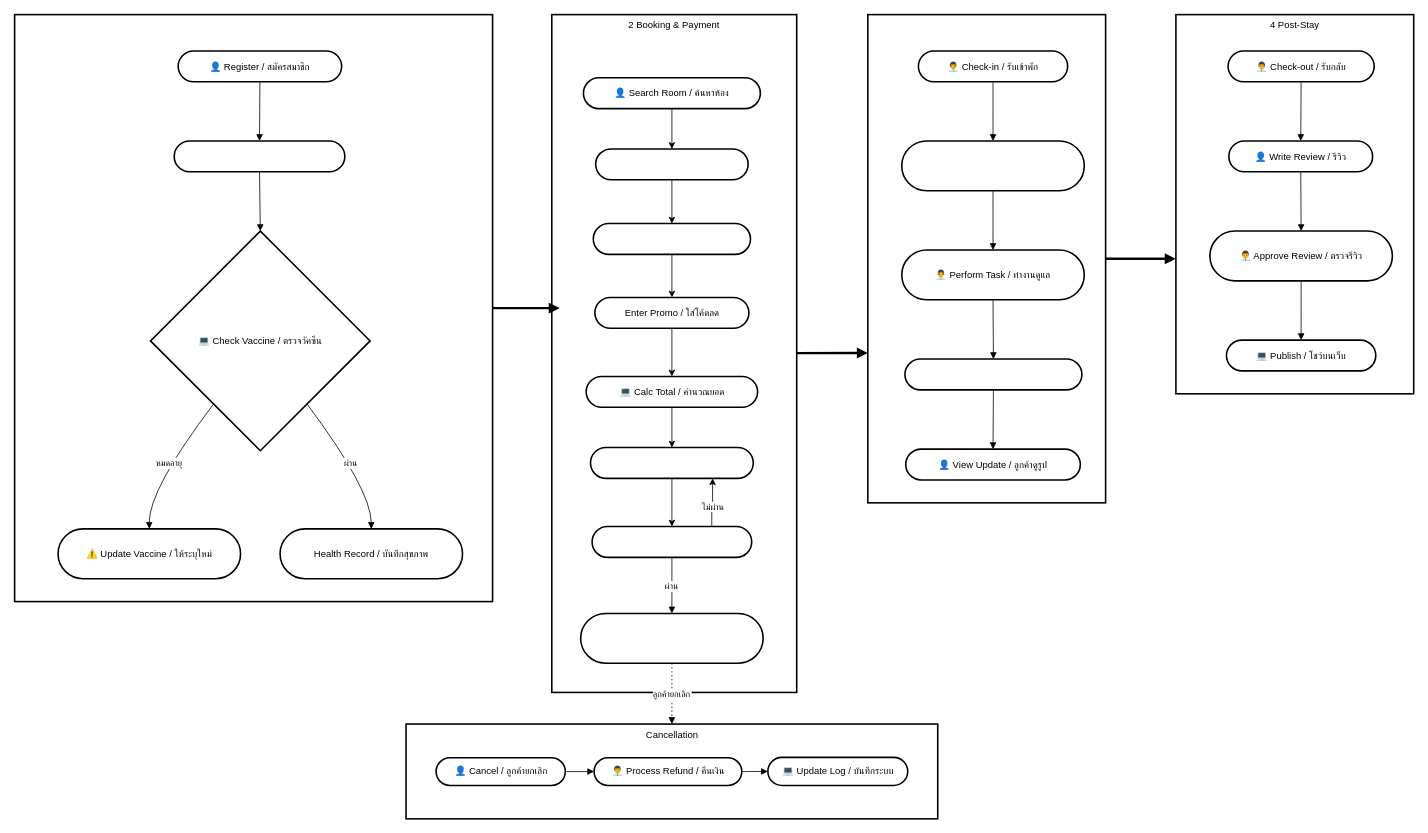
The diagram is 1428 pixels wide and 833 high, and some of its shapes have lost their labels. The box of each missing label's shape, as (x1, y1, x2, y2) in pixels:
1 Pre-Booking: (13, 13, 493, 602)
3 Pet Stay (🌟): (867, 13, 1106, 503)
Add Pet Info / เพิ่มสัตว์เลี้ยง: (173, 140, 345, 172)
Add Service / บริการเสริม: (592, 222, 751, 255)
Select Room / เลือกห้อง: (594, 148, 749, 180)
👤 Upload Slip / แนบสลิป: (589, 446, 754, 479)
👨‍💼 Send Update / ส่งรายงาน: (904, 358, 1082, 390)
👨‍💼 Verify Slip / ตรวจสลิป: (591, 525, 752, 558)
💻 Confirm Booking / ยืนยัน: (579, 612, 764, 664)
💻 Create Tasks / สร้าง To-do: (901, 140, 1085, 191)
